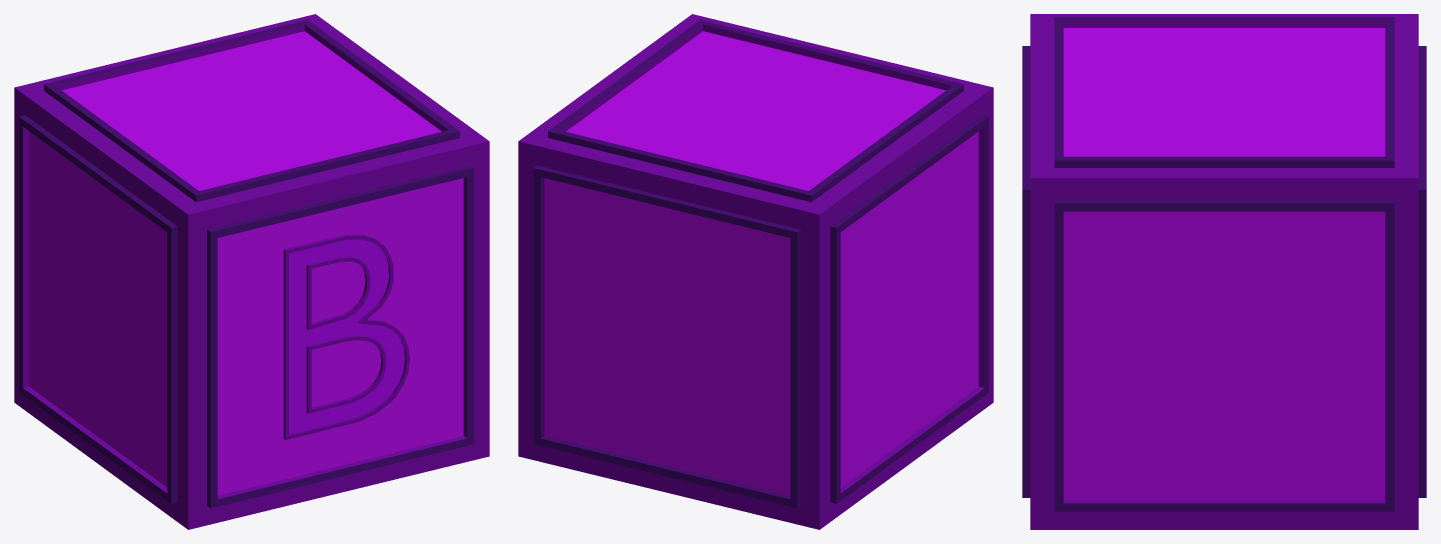
Rendered from SM_Alphabet_blocks_B.fbx.
The picture shows the model from 3 angles, left to right: view 1: azimuth 30°, elevation 25°; view 2: azimuth 150°, elevation 25°; view 3: azimuth 270°, elevation 25°; orthographic projection. The views are drawn at different scales.
Visible parts, largest first — view 1: SM_Alphabet blocks_B; view 2: SM_Alphabet blocks_B; view 3: SM_Alphabet blocks_B.
Part boxes in pixels (x1,y1,x2,y2): SM_Alphabet blocks_B: (14,14,489,529); SM_Alphabet blocks_B: (518,14,993,529); SM_Alphabet blocks_B: (1022,14,1426,529).
Bounding box in the file's own units: 71.98 × 71.98 × 71.98.
